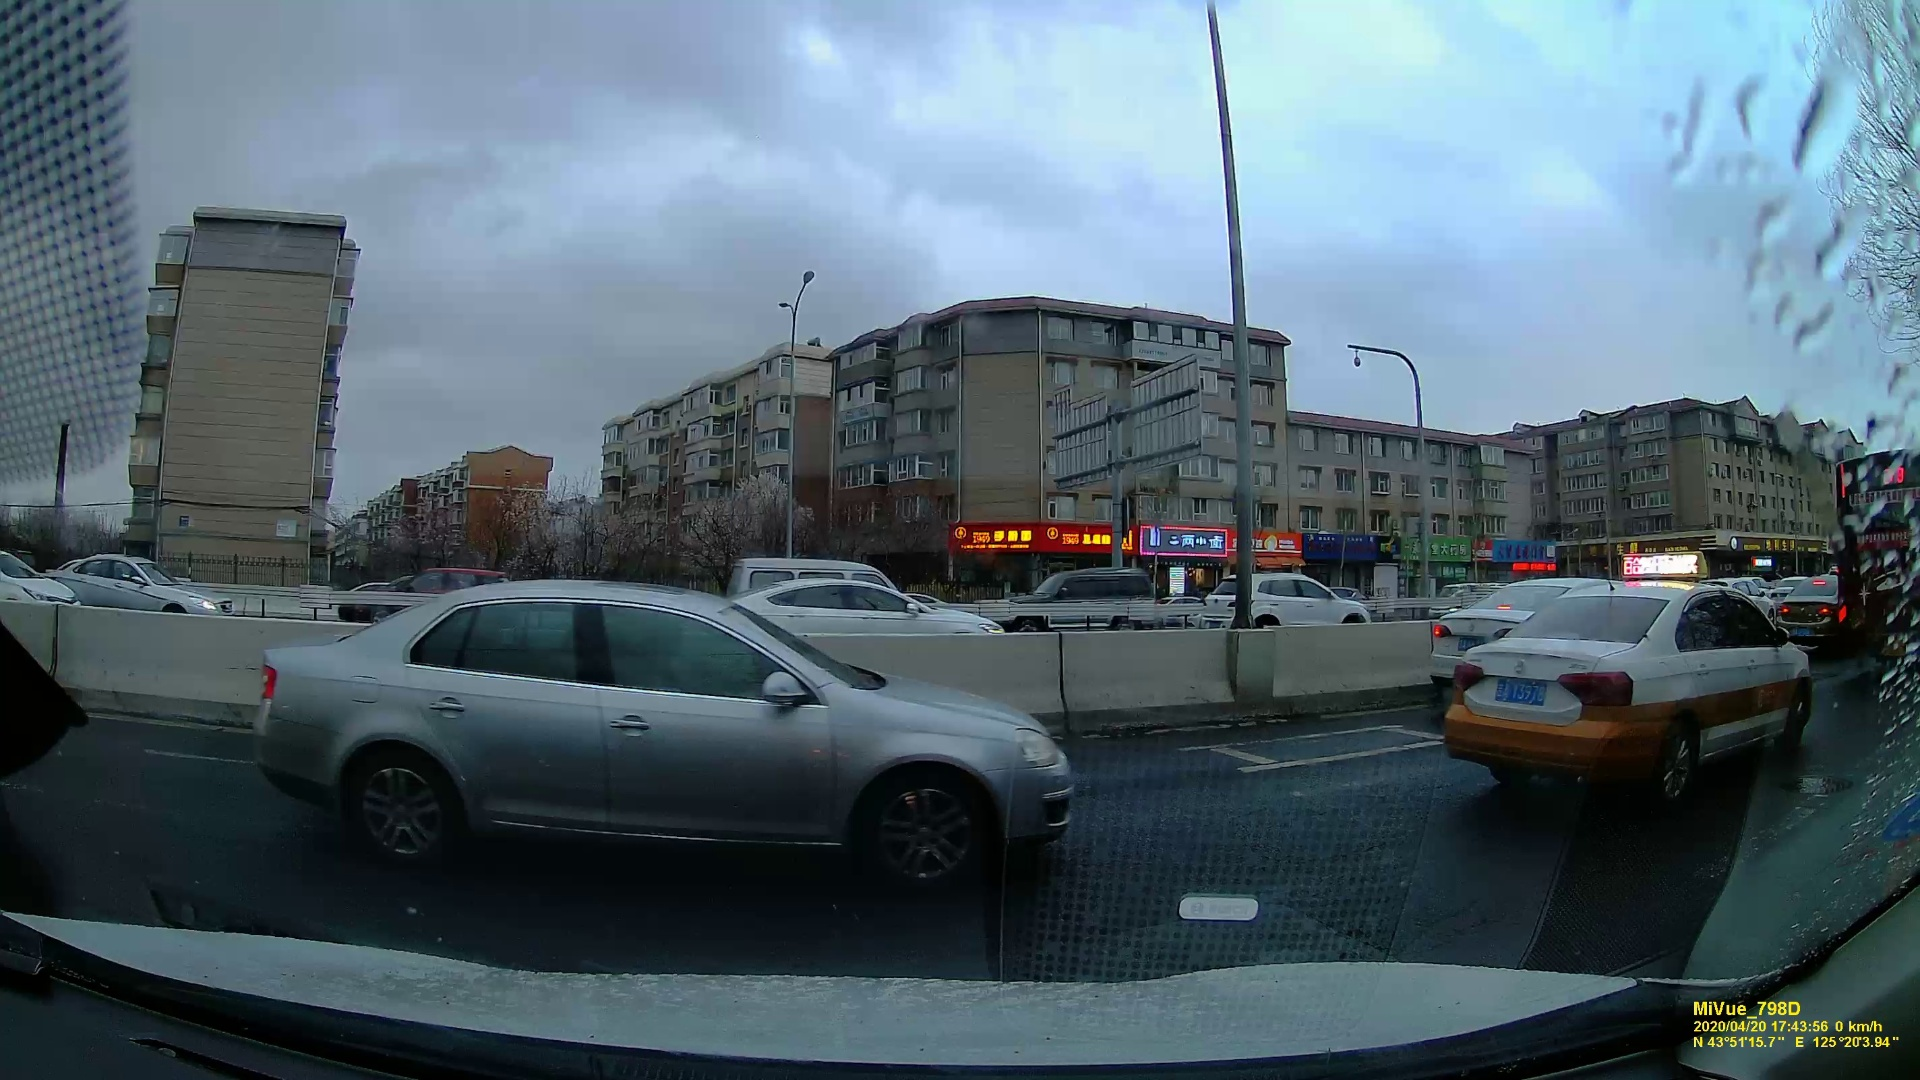bus: (1826, 454, 1920, 655)
vehicle: (253, 595, 1071, 887), (1449, 592, 1809, 783), (738, 578, 1001, 640), (1203, 568, 1379, 632), (58, 556, 229, 618)
